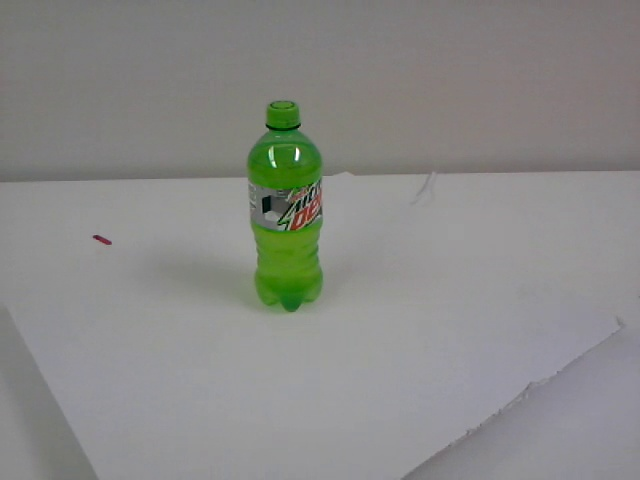botolplastik: (248, 102, 322, 311)
